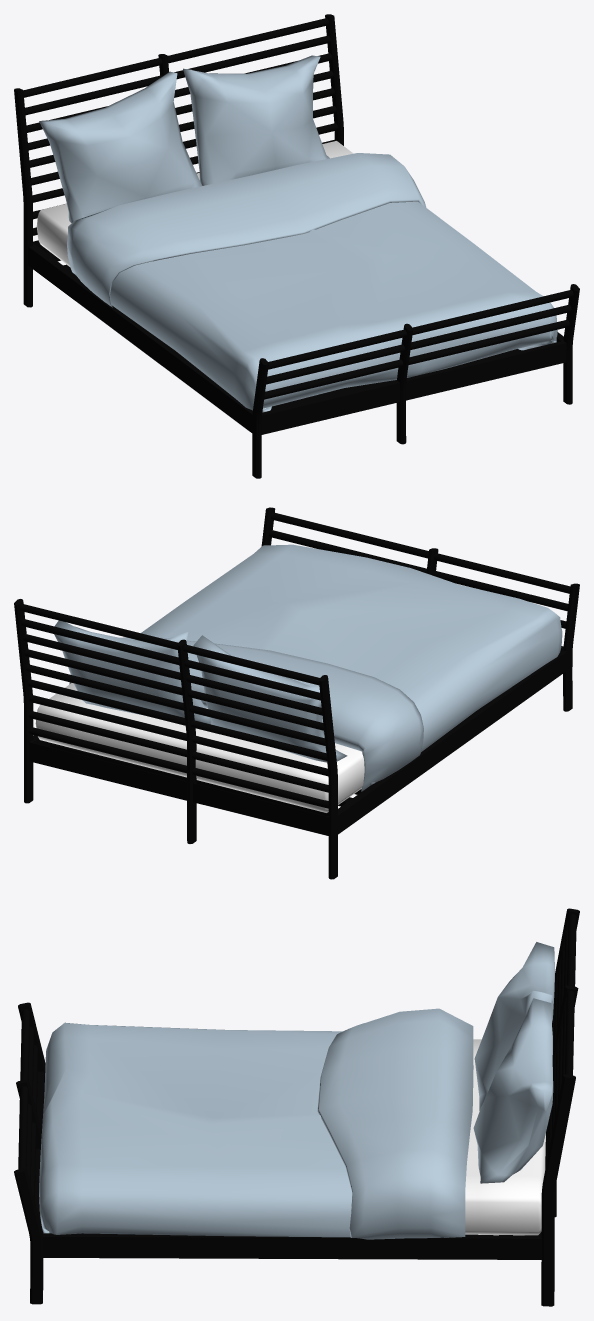
Rendered from IKEA-Sorum_Queen_Bed_Frame-3D.obj.
3 renders of one model, top to bottom at view 1: azimuth 30°, elevation 25°; view 2: azimuth 150°, elevation 25°; view 3: azimuth 270°, elevation 25°, orthographic. The views are drawn at different scales.
Visible parts, largest first — view 1: Object02, Box01, Box05, Box06, Object01; view 2: Object02, Box01, Object01, Box05, Box06; view 3: Object02, Box01, Box06, Object01, Box05.
Part boxes in pixels (<box>): Object02: <box>67,153,557,412</box>; Box01: <box>14,14,579,478</box>; Box05: <box>39,71,202,223</box>; Box06: <box>183,55,329,185</box>; Object01: <box>36,141,352,267</box>; Object02: <box>69,544,562,791</box>; Box01: <box>14,507,579,879</box>; Object01: <box>35,683,364,812</box>; Box05: <box>193,635,347,762</box>; Box06: <box>54,620,210,724</box>; Object02: <box>39,1008,473,1239</box>; Box01: <box>14,908,579,1306</box>; Box06: <box>473,998,553,1183</box>; Object01: <box>465,1039,545,1235</box>; Box05: <box>474,942,554,1110</box>.
Size of the model in its own units: 1662 by 1020 by 2278.
